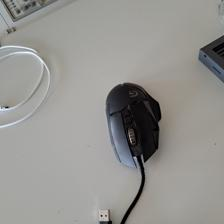mouse: (104, 80, 163, 169)
